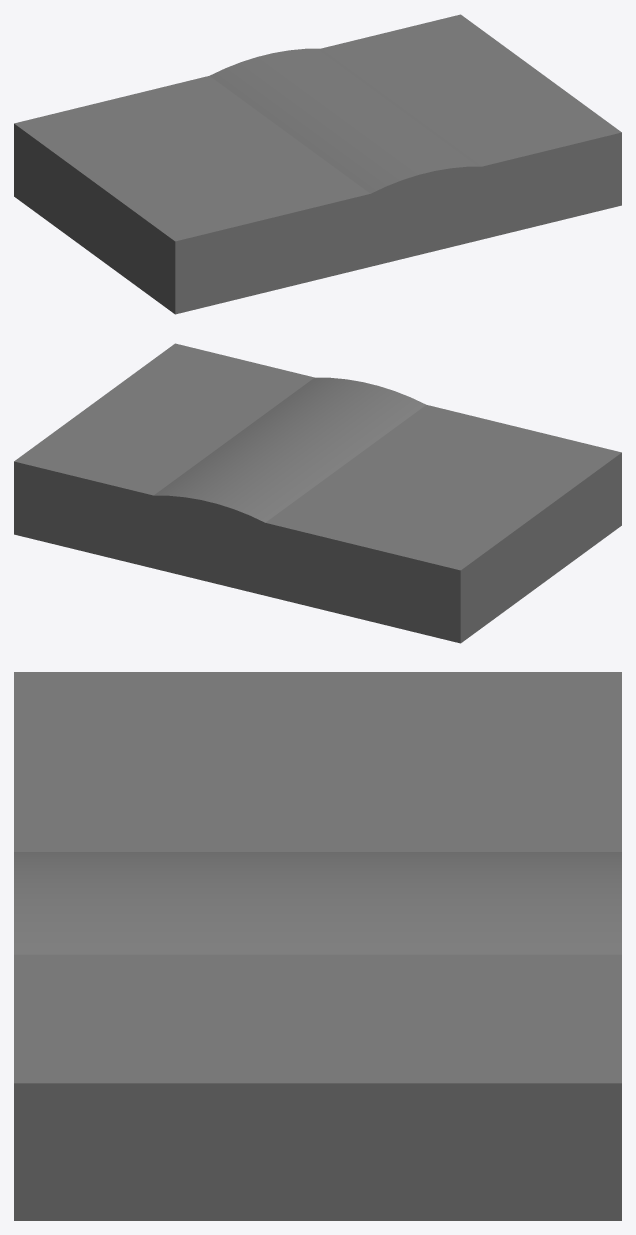
The picture shows the model from 3 angles, top to bottom: view 1: azimuth 30°, elevation 25°; view 2: azimuth 150°, elevation 25°; view 3: azimuth 270°, elevation 25°; orthographic projection. The views are drawn at different scales.
Parts seen in each view (by area): view 1: mesh_id4, mesh_id5; view 2: mesh_id4, mesh_id5; view 3: mesh_id4, mesh_id5.
Part boxes in pixels (bbox=[...]): mesh_id4: bbox=[14, 14, 621, 314]; mesh_id5: bbox=[210, 48, 481, 263]; mesh_id4: bbox=[14, 343, 621, 643]; mesh_id5: bbox=[154, 377, 425, 592]; mesh_id4: bbox=[14, 672, 621, 1220]; mesh_id5: bbox=[14, 852, 621, 954].
Bounding box in the file's own units: 0.512 × 0.0878 × 0.32.
2 materials, 2 textured.
